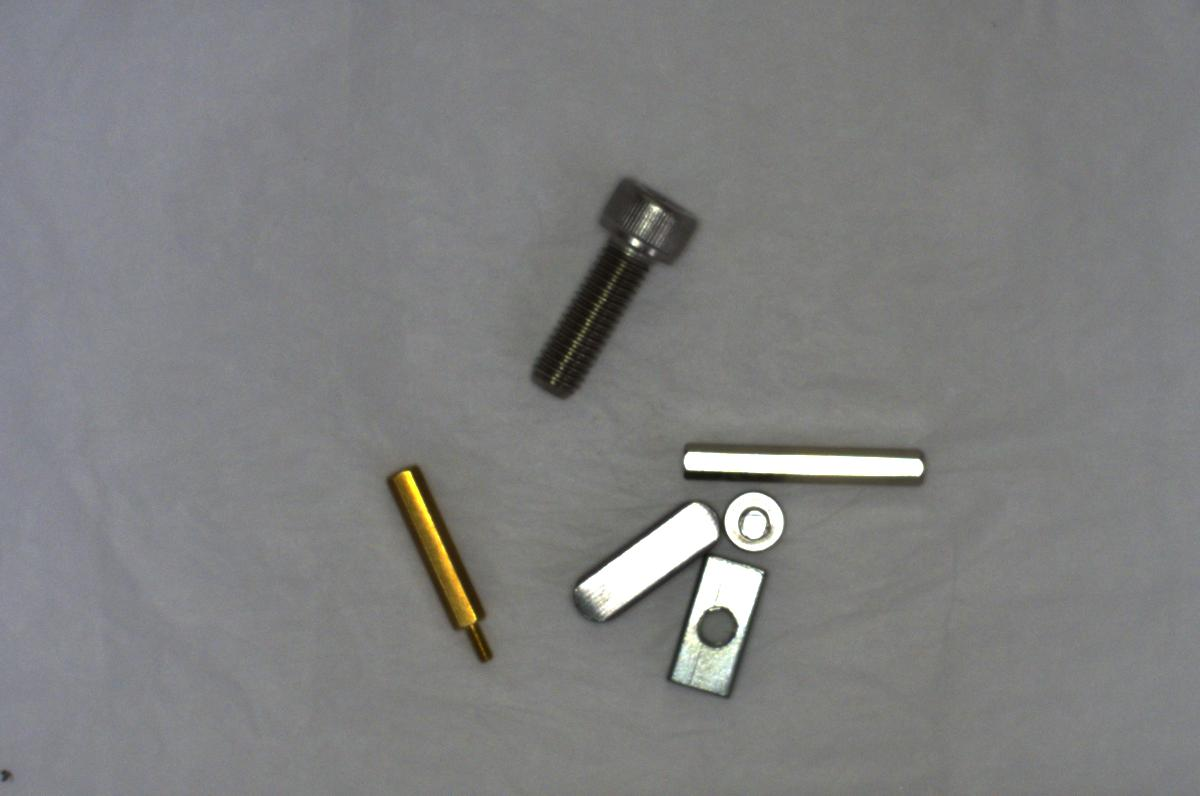Double hexagonal column: (667, 428, 930, 494)
Hexagon pillar: (376, 455, 502, 668)
Hexagon screw: (519, 162, 708, 405)
Keybar: (579, 495, 723, 622)
Rectangular nut: (658, 551, 775, 708)
Round head screw: (720, 485, 797, 560)
